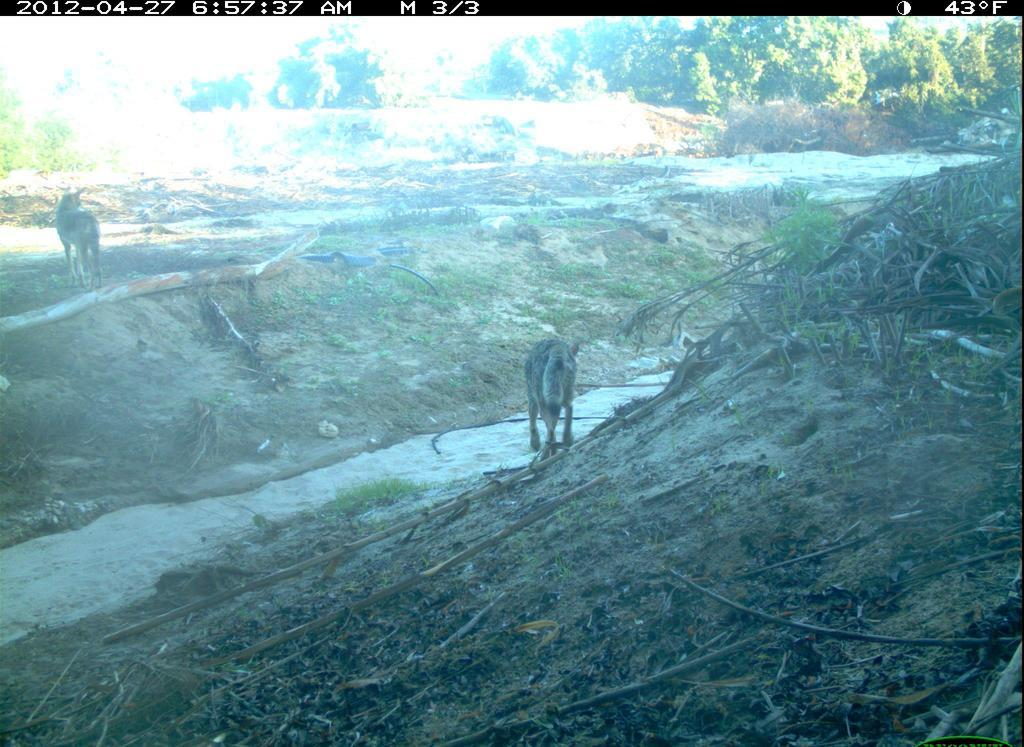coyote: (519, 331, 587, 461), (53, 186, 109, 297)
